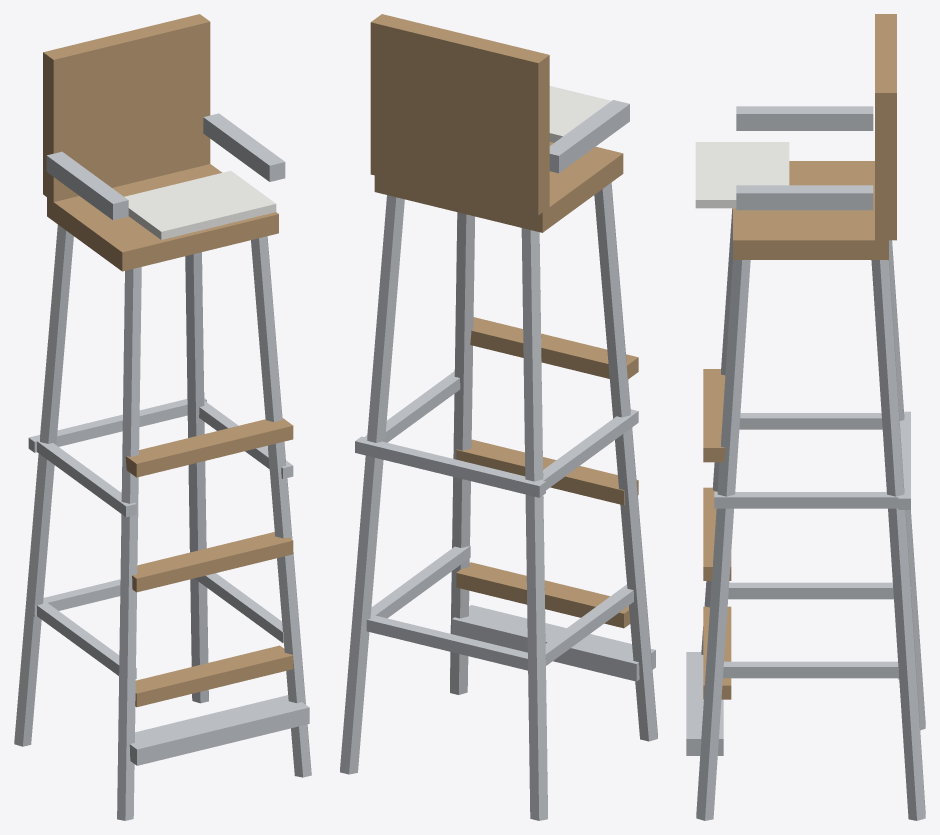
File: tennis-club-and-courts-umpire-chair-0422214d__33622.glb
3 renders of one model, left to right at view 1: azimuth 30°, elevation 25°; view 2: azimuth 150°, elevation 25°; view 3: azimuth 270°, elevation 25°, orthographic. The views are drawn at different scales.
Parts seen in each view (by area): view 1: umpire-chair; view 2: umpire-chair; view 3: umpire-chair.
Boxes of the visible parts, x1=… form: umpire-chair: x1=14, y1=14, x2=311, y2=820; umpire-chair: x1=340, y1=14, x2=657, y2=820; umpire-chair: x1=686, y1=14, x2=925, y2=820.
Size of the model in its own units: 0.744 by 2.54 by 0.7677.
